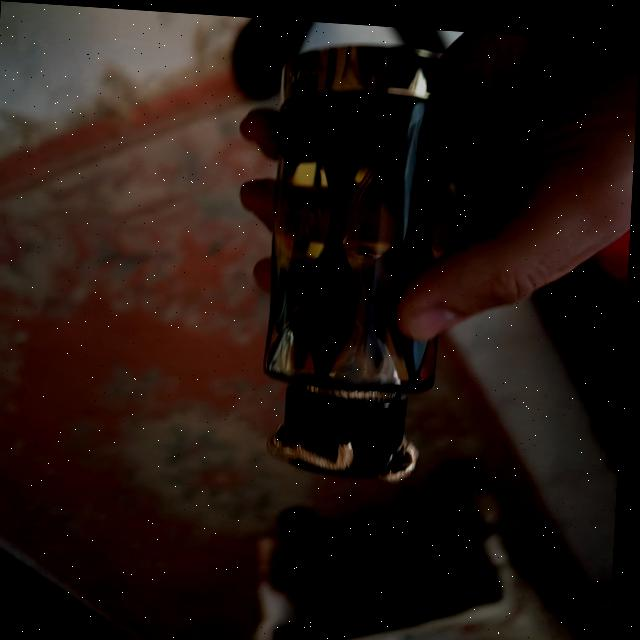Teriaq-Intense: (259, 33, 461, 478)
